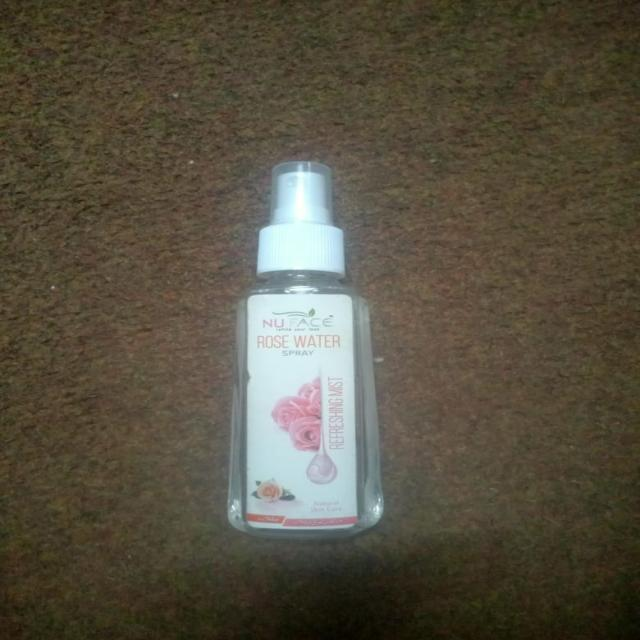setting spray: (201, 136, 408, 586)
